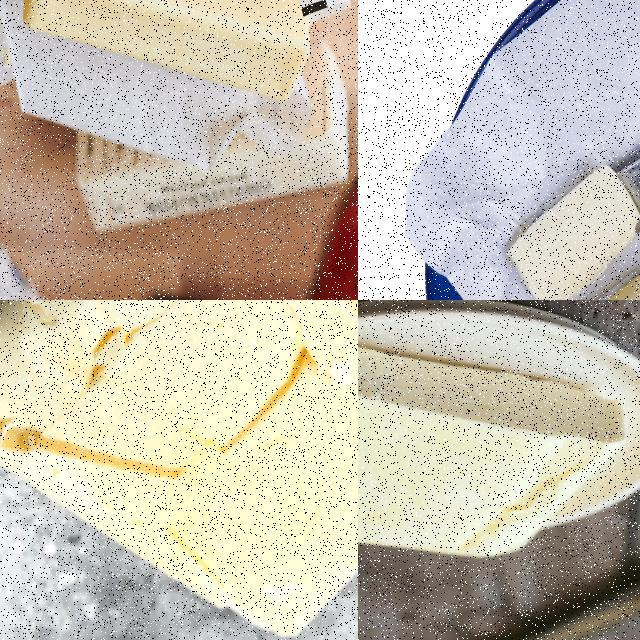Butter: (0, 300, 357, 639), (358, 345, 625, 560), (19, 0, 309, 100), (506, 163, 639, 299)
